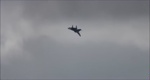maybay_muctieu: (68, 23, 82, 37)
